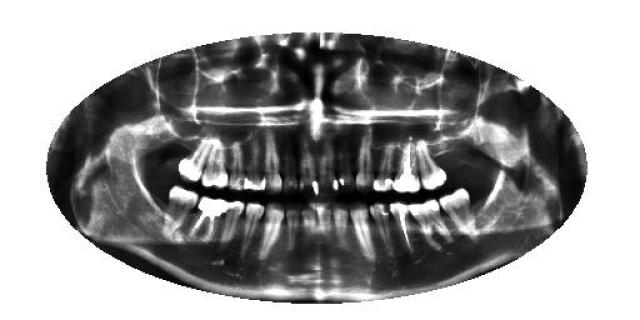Implant: (188, 196, 228, 244), (392, 135, 422, 195), (390, 199, 415, 255)
